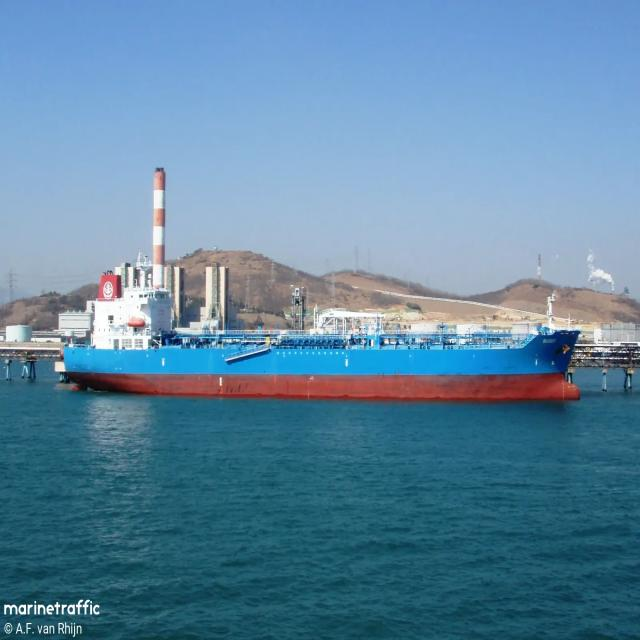Tanker: (64, 266, 580, 400)
